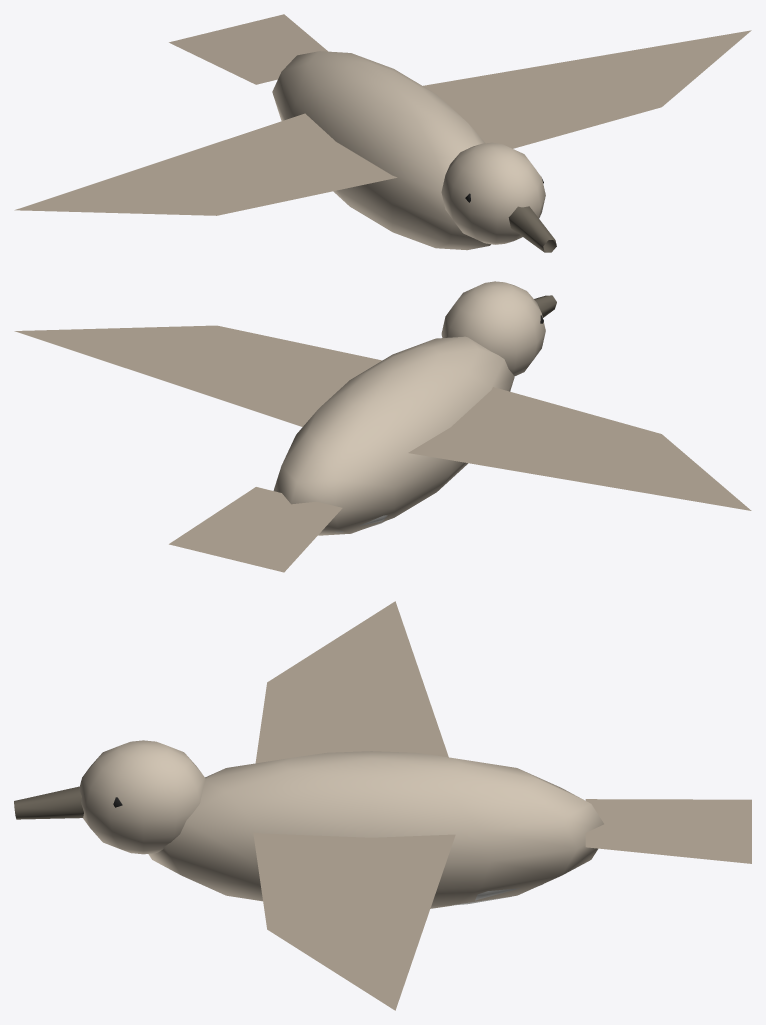
The model's file is Bird_Sandpiper.glb.
3 views of the same model, one above another, from view 1: azimuth 30°, elevation 25°; view 2: azimuth 150°, elevation 25°; view 3: azimuth 270°, elevation 25° (orthographic). The views are drawn at different scales.
Parts seen in each view (by area): view 1: Bird_Sandpiper, WingL, WingR; view 2: Bird_Sandpiper, WingL, WingR; view 3: Bird_Sandpiper, WingR, WingL.
Part boxes in pixels (x1=…): Bird_Sandpiper: x1=169, y1=14, x2=556, y2=252; WingL: x1=14, y1=113, x2=397, y2=215; WingR: x1=423, y1=30, x2=751, y2=148; Bird_Sandpiper: x1=169, y1=281, x2=556, y2=572; WingL: x1=408, y1=387, x2=751, y2=510; WingR: x1=14, y1=325, x2=382, y2=426; Bird_Sandpiper: x1=14, y1=740, x2=751, y2=908; WingR: x1=253, y1=832, x2=455, y2=1010; WingL: x1=255, y1=601, x2=448, y2=763.
Bounding box in the file's own units: 0.408 × 0.074 × 0.3105.
